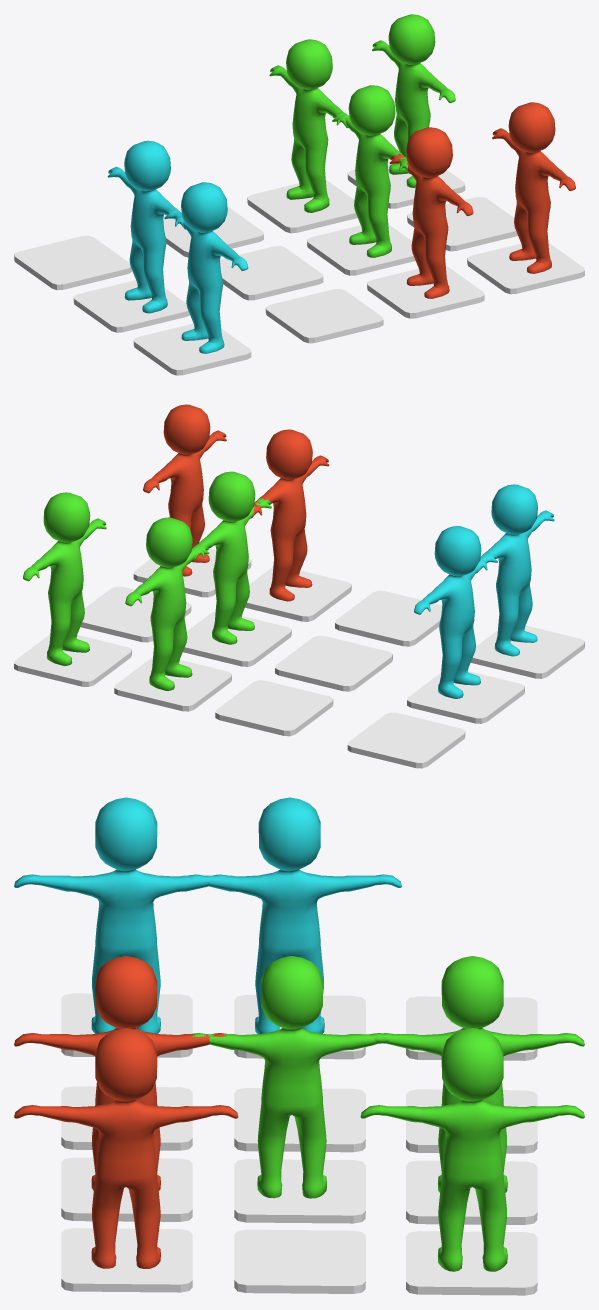
Rendered from Cells.fbx.
3 renders of one model, top to bottom at view 1: azimuth 30°, elevation 25°; view 2: azimuth 150°, elevation 25°; view 3: azimuth 270°, elevation 25°, orthographic. The views are drawn at different scales.
Parts seen in each view (by area): view 1: Mayham, Mayham.005, Mayham.001, Mayham.006, Mayham.007, Mayham.003, Mayham.004, Cube.006, Cube.015, Cube.013, Cube.005, Cube.009 (+7 smaller); view 2: Mayham.004, Mayham.005, Mayham.007, Mayham.003, Mayham.001, Mayham.006, Mayham, Cube.016, Cube.015, Cube.013, Cube.006, Cube.014 (+7 smaller); view 3: Mayham.004, Mayham, Mayham.003, Mayham.006, Mayham.007, Cube.010, Mayham.005, Mayham.001, Cube.012, Cube.018, Cube.009, Cube.013 (+7 smaller).
Boxes of the visible parts, x1,y1,x2,y2 form: Mayham: (492, 102, 575, 273); Mayham.005: (269, 39, 348, 212); Mayham.001: (389, 127, 473, 298); Mayham.006: (164, 182, 248, 353); Mayham.007: (107, 140, 185, 313); Mayham.003: (332, 85, 410, 257); Mayham.004: (372, 14, 455, 187); Cube.006: (265, 289, 383, 343); Cube.015: (14, 235, 131, 290); Cube.013: (220, 246, 323, 300); Cube.005: (133, 323, 251, 375); Cube.009: (467, 242, 584, 294); Mayham.004: (23, 492, 106, 665); Mayham.005: (125, 517, 209, 690); Mayham.007: (414, 526, 497, 698); Mayham.003: (192, 471, 271, 644); Mayham.001: (251, 429, 329, 601); Mayham.006: (476, 484, 554, 656); Mayham: (143, 404, 226, 576); Cube.016: (215, 680, 333, 736); Cube.015: (347, 712, 465, 768); Cube.013: (275, 635, 392, 691); Cube.006: (335, 590, 442, 646); Cube.014: (407, 671, 524, 723); Mayham.004: (360, 1028, 584, 1271); Mayham: (14, 1028, 238, 1268); Mayham.003: (192, 956, 394, 1198); Mayham.006: (14, 797, 227, 1033); Mayham.007: (188, 797, 401, 1033); Cube.010: (234, 1229, 365, 1293); Mayham.005: (370, 956, 584, 1192); Mayham.001: (14, 956, 226, 1190); Cube.012: (234, 1159, 365, 1223); Cube.018: (406, 1231, 537, 1295); Cube.009: (61, 1228, 192, 1292); Cube.013: (234, 1088, 365, 1152).
Size of the model in its own units: 1210 by 466 by 1006.
